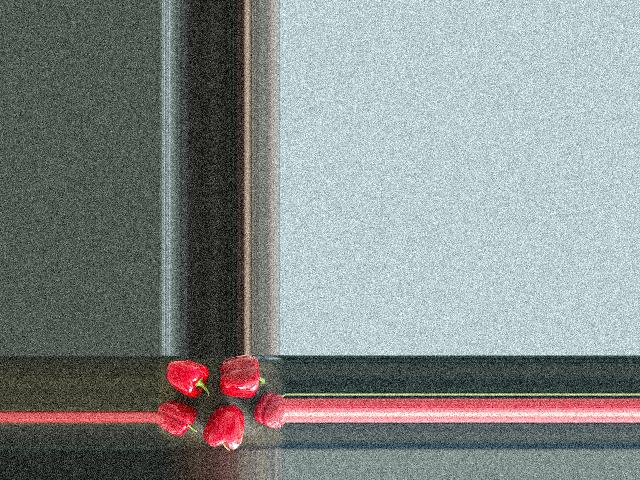bell_pepper: (252, 390, 284, 435)
